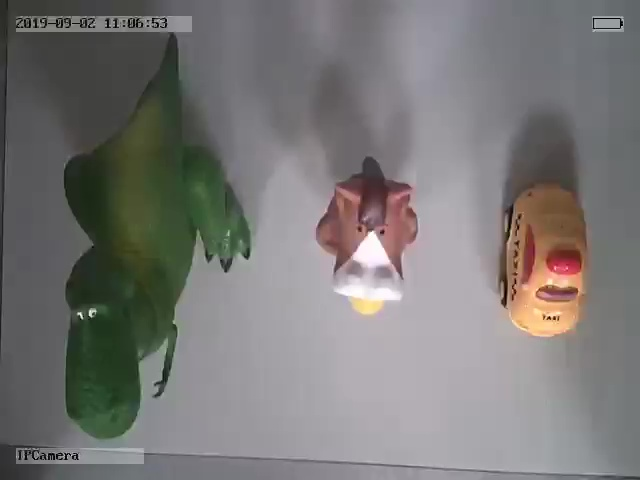car: (498, 178, 590, 339)
horse: (316, 154, 418, 316)
rex: (62, 59, 253, 439)
